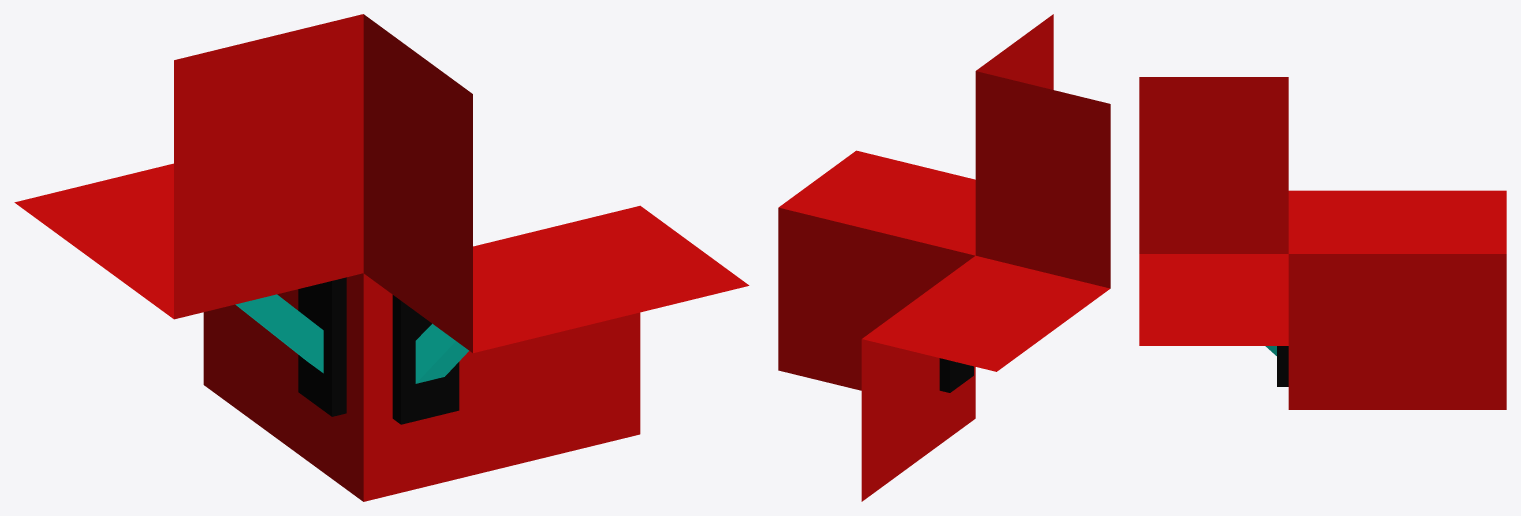
3 views of the same model, side by side, from view 1: azimuth 30°, elevation 25°; view 2: azimuth 150°, elevation 25°; view 3: azimuth 270°, elevation 25° (orthographic). The views are drawn at different scales.
Parts seen in each view (by area): view 1: None_A_E_A_A_E_E_A_E_None; view 2: None_A_E_A_A_E_E_A_E_None; view 3: None_A_E_A_A_E_E_A_E_None.
Part boxes in pixels (x1=…): None_A_E_A_A_E_E_A_E_None: x1=14, y1=14, x2=749, y2=501; None_A_E_A_A_E_E_A_E_None: x1=778, y1=14, x2=1110, y2=501; None_A_E_A_A_E_E_A_E_None: x1=1139, y1=77, x2=1506, y2=409.
Size of the model in its own units: 100 by 100 by 100.
